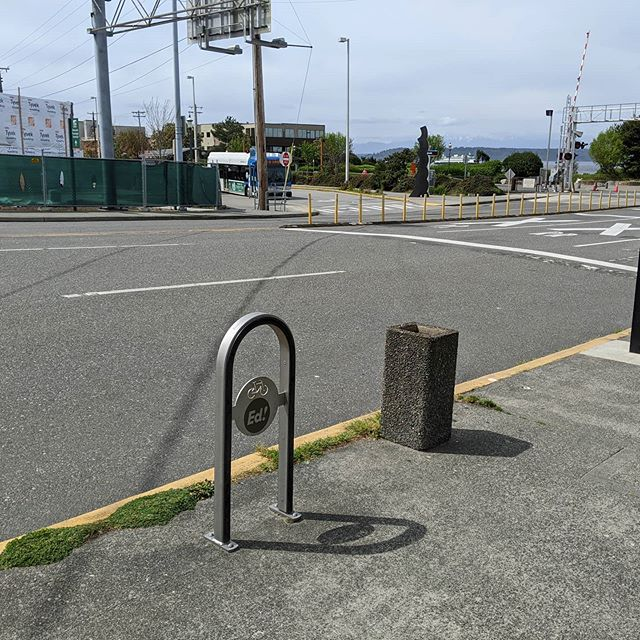building: (187, 112, 328, 180), (1, 86, 61, 171)
bus: (209, 149, 284, 197)
sidewalk: (2, 381, 640, 636)
sign: (200, 318, 316, 560)
sky: (30, 1, 618, 120)
street: (9, 201, 625, 499)
tree: (585, 124, 640, 194), (503, 151, 543, 189)
